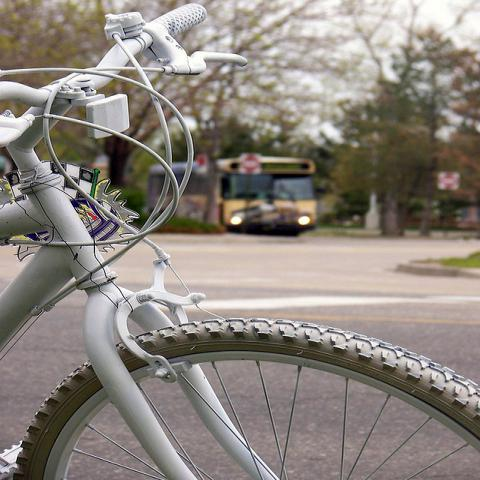bus: (147, 158, 317, 236)
